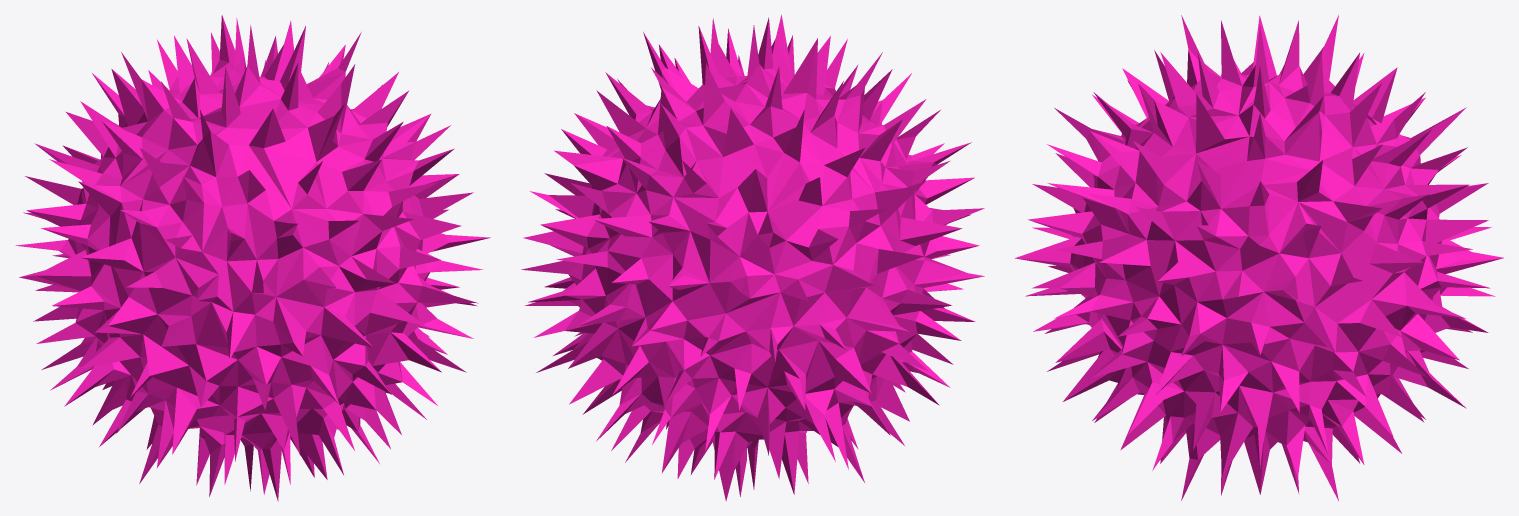
Rendered from virus.obj.
3 views of the same model, side by side, from view 1: azimuth 30°, elevation 25°; view 2: azimuth 150°, elevation 25°; view 3: azimuth 270°, elevation 25° (orthographic).
Parts seen in each view (by area): view 1: Icosphere; view 2: Icosphere; view 3: Icosphere.
Boxes of the visible parts, left/top/right/bottom form: Icosphere: left=15, top=15, right=490, bottom=501; Icosphere: left=521, top=14, right=984, bottom=501; Icosphere: left=1015, top=15, right=1503, bottom=501.
Bounding box in the file's own units: 1.89 × 2.11 × 2.
